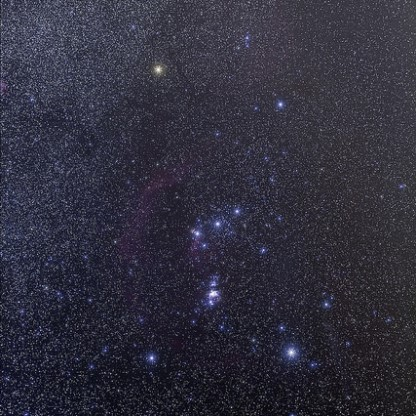Orion: (139, 52, 169, 83), (278, 339, 311, 364), (272, 94, 299, 120), (137, 345, 161, 369), (182, 222, 204, 246), (205, 210, 224, 236), (229, 199, 248, 220)
